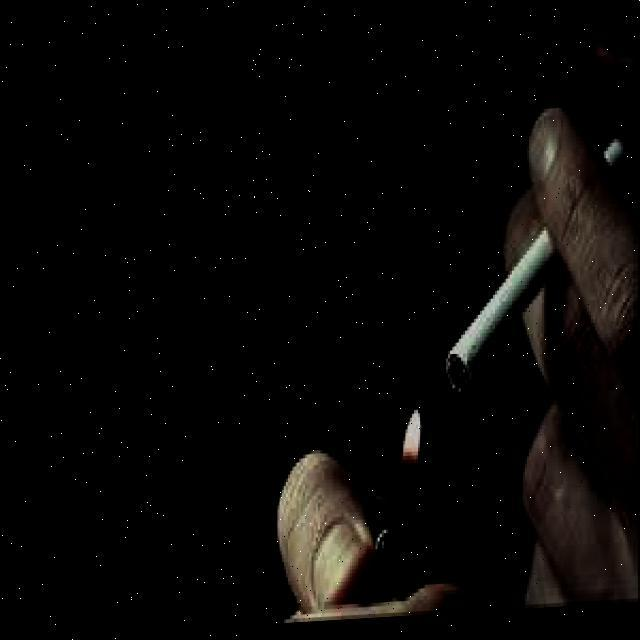Fire: (388, 388, 433, 488)
